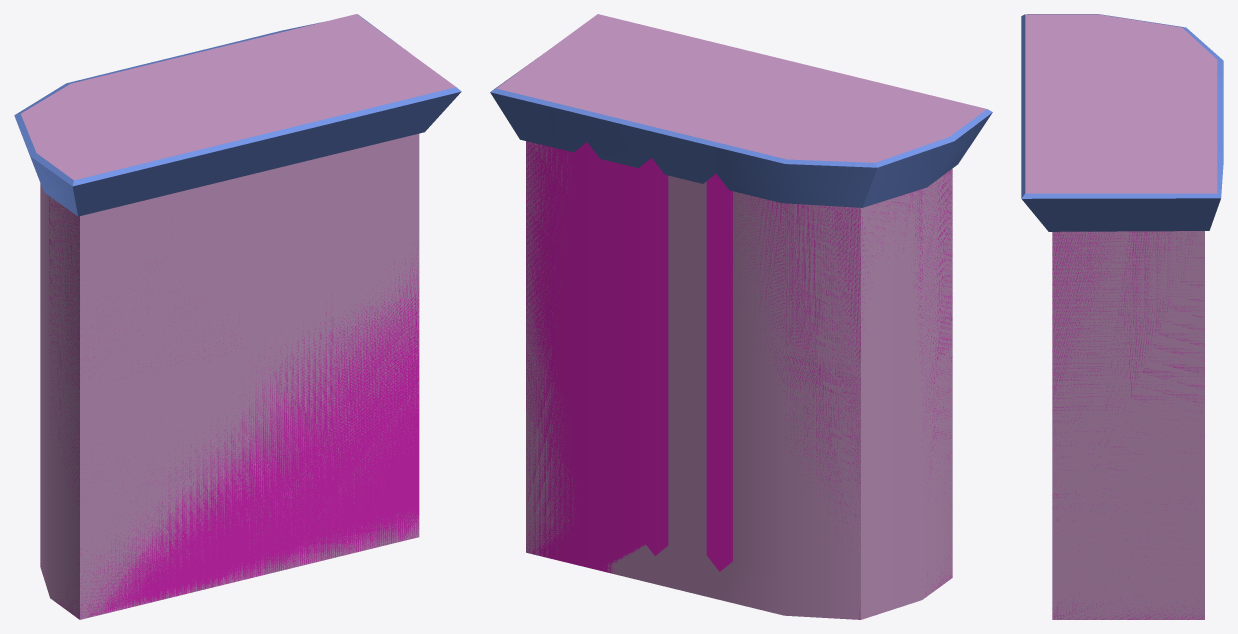
Rendered from building5.fbx.
3 renders of one model, left to right at view 1: azimuth 30°, elevation 25°; view 2: azimuth 150°, elevation 25°; view 3: azimuth 270°, elevation 25°, orthographic. The views are drawn at different scales.
Visible parts, largest first — view 1: building5_MESH, building5_COL; view 2: building5_MESH, building5_COL; view 3: building5_MESH, building5_COL.
Boxes of the visible parts, x1=… form: building5_MESH: x1=14, y1=14, x2=461, y2=619; building5_COL: x1=40, y1=196, x2=419, y2=619; building5_MESH: x1=490, y1=14, x2=992, y2=619; building5_COL: x1=526, y1=141, x2=952, y2=619; building5_MESH: x1=1021, y1=14, x2=1223, y2=619; building5_COL: x1=1052, y1=231, x2=1204, y2=619.
Bounding box in the file's own units: 912 × 425 × 1012.
